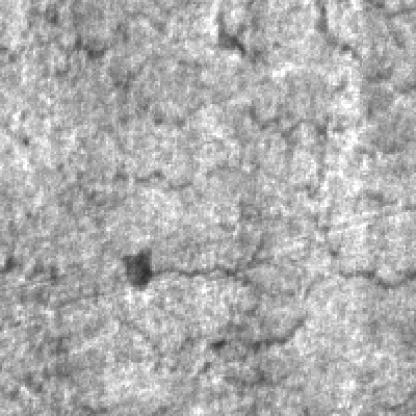crazing: (29, 6, 416, 162), (56, 152, 416, 298), (108, 268, 416, 406)
